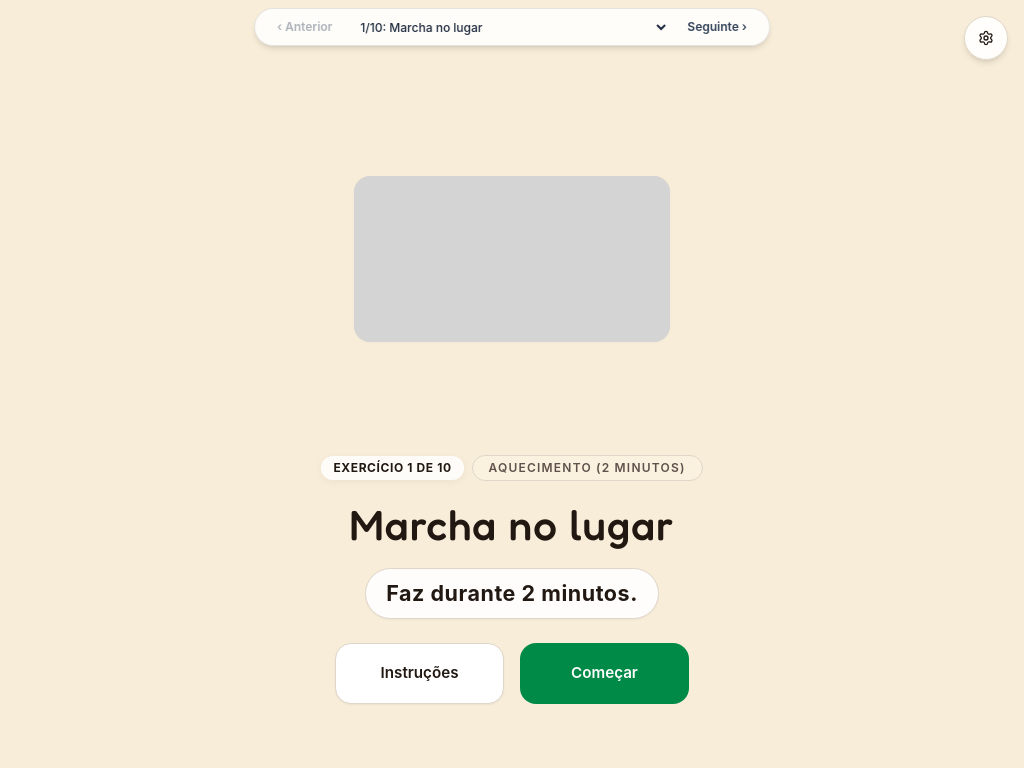
Test: exercise programme › completes all repetitions with one Terminei tap and opens next exercise
The image size is (1024, 768).
Click the button "Começar" at x=604, y=673, box left=520, top=643, right=689, bottom=704
Wait 124600 ms
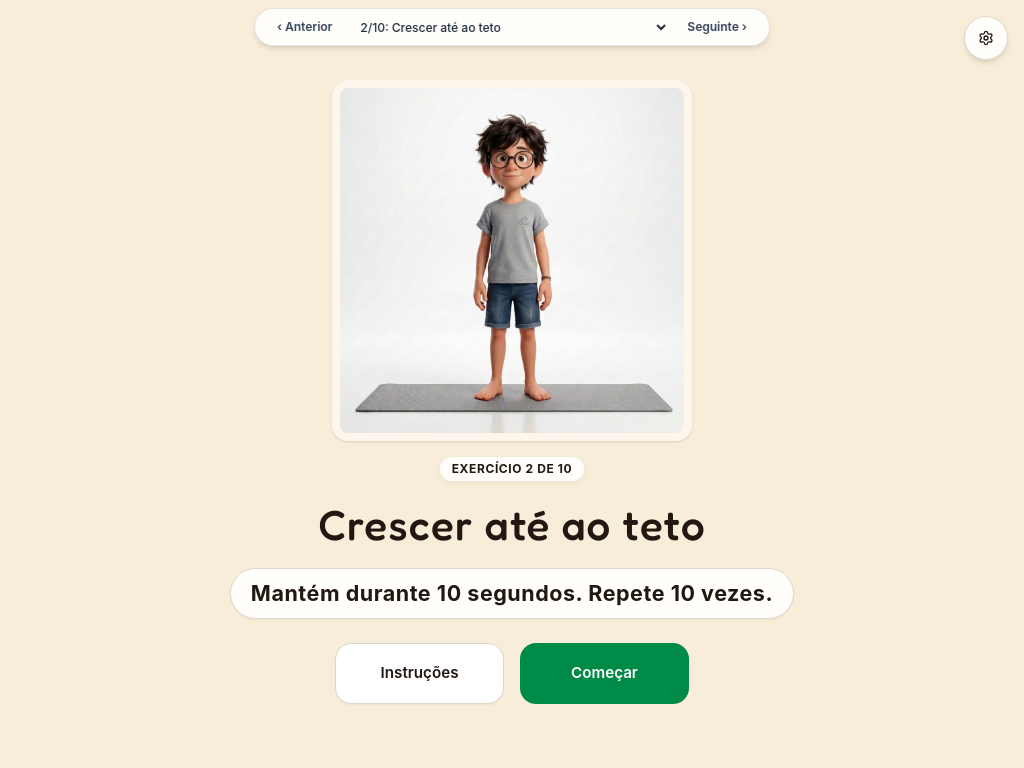
Click the button "Começar" at x=604, y=673, box left=520, top=643, right=689, bottom=704
Wait 236900 ms
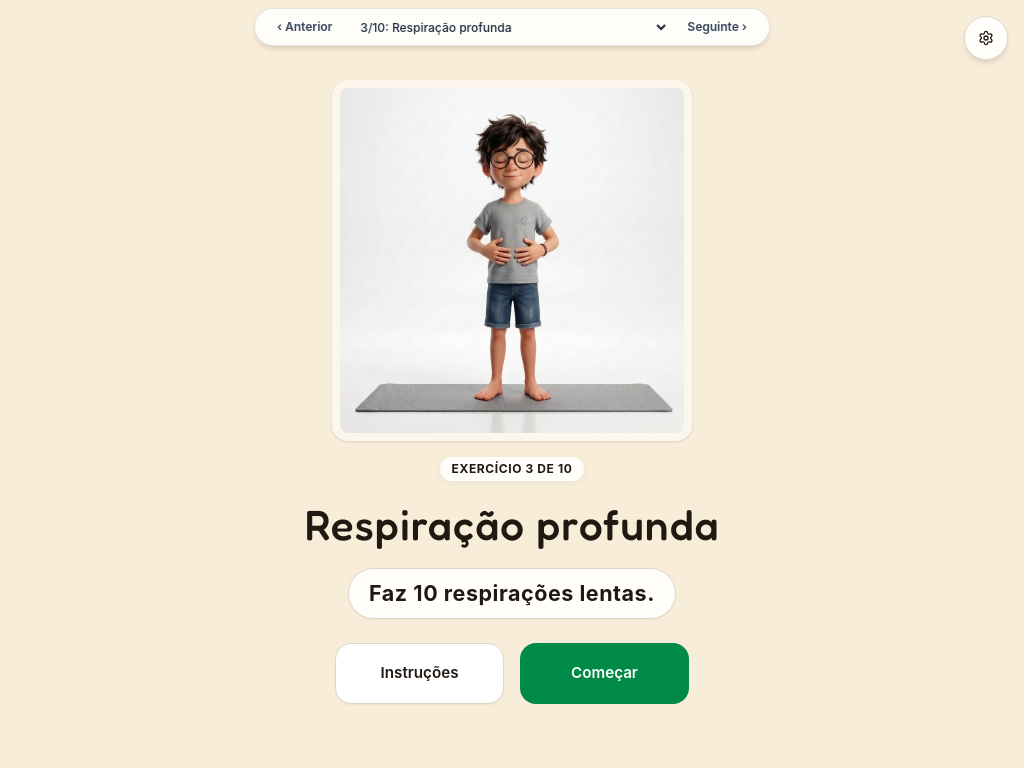
expect the heading "Respiração profunda" is shown: met, box left=304, top=493, right=720, bottom=556
Click the button "Começar" at x=604, y=673, box left=520, top=643, right=689, bottom=704
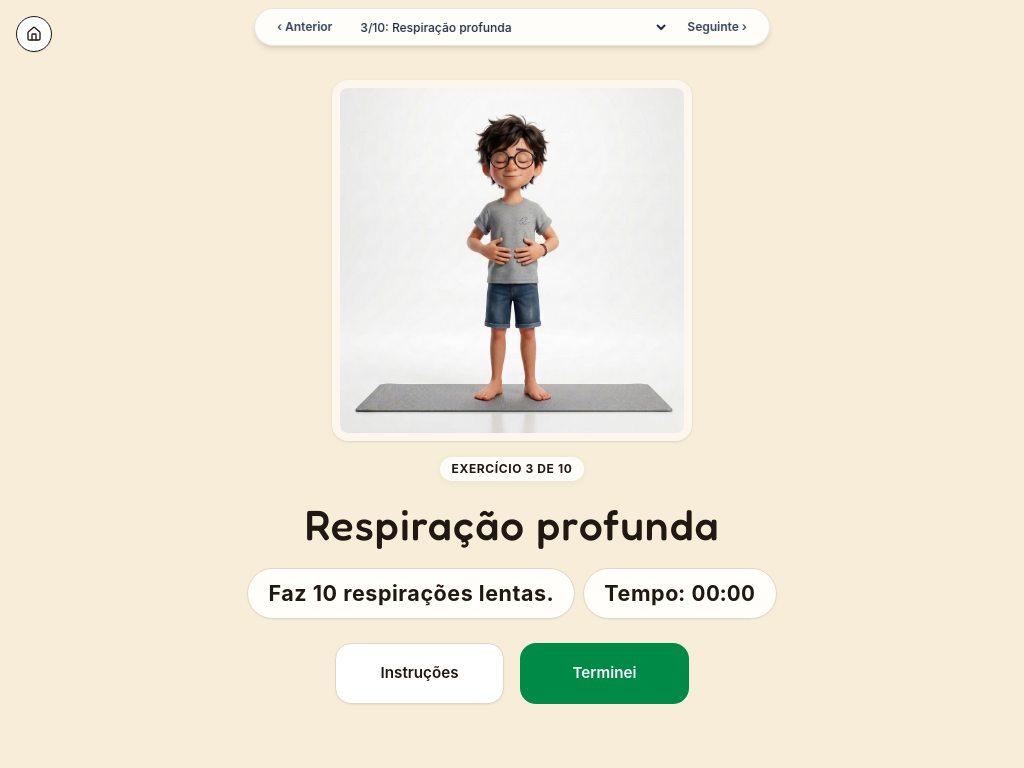
expect the text "Faz 10 respirações lentas." is shown: met, box left=248, top=568, right=575, bottom=619
expect the heading "Respiração profunda" is shown: met, box left=304, top=493, right=720, bottom=556
expect the text named "Tempo decorrido: 00:00" is shown: met, box left=583, top=568, right=776, bottom=619
Click the button "Terminei" at x=604, y=673, box left=520, top=643, right=689, bottom=704
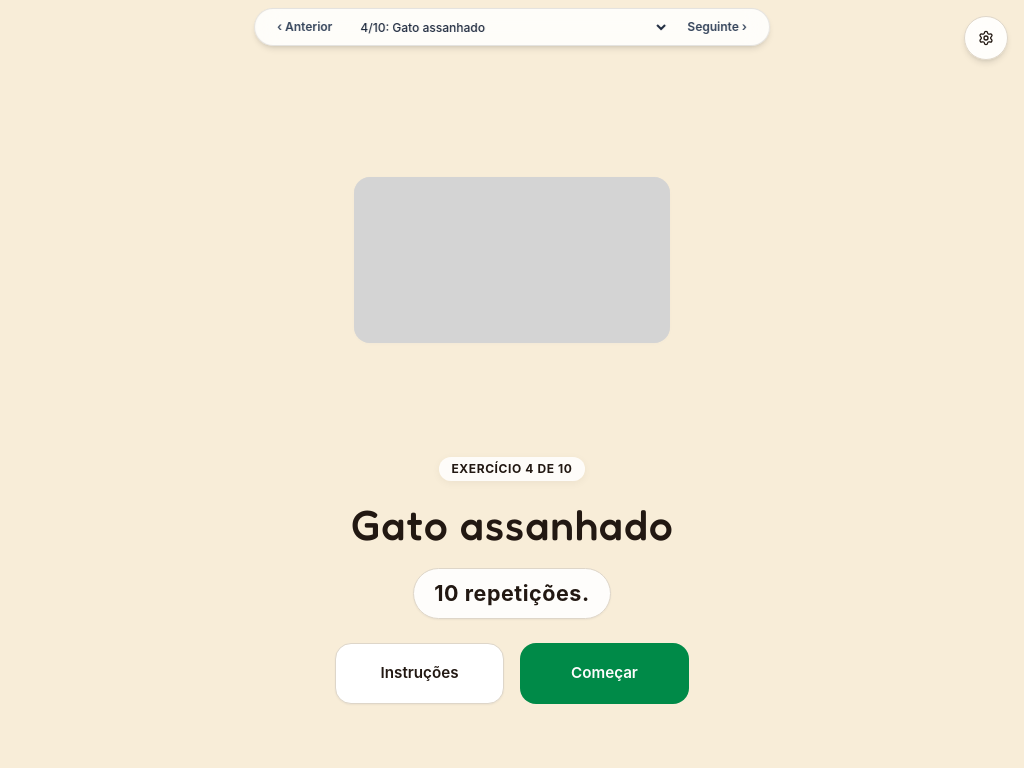
expect the heading "Gato assanhado" is shown: met, box left=350, top=493, right=674, bottom=556
